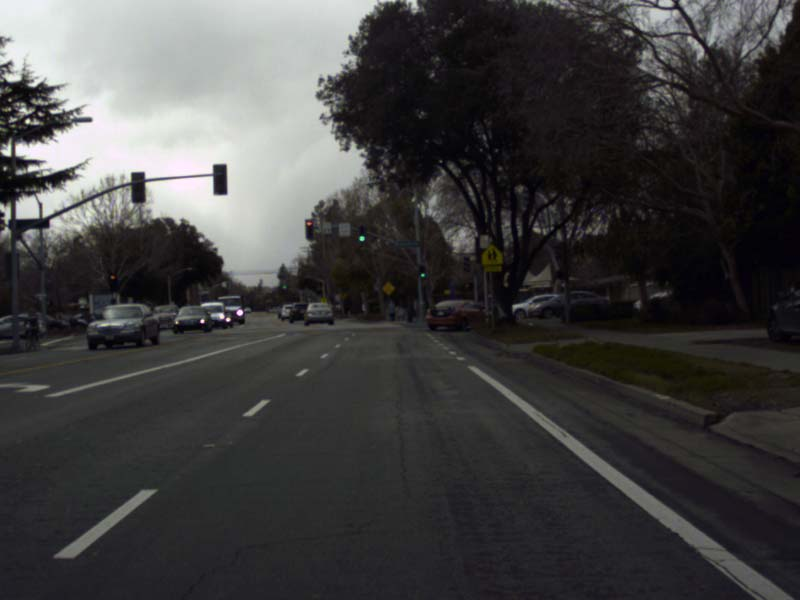Green: (359, 224, 365, 242), (420, 264, 425, 278), (283, 281, 286, 288)
Red: (109, 274, 117, 291), (306, 220, 312, 237)
